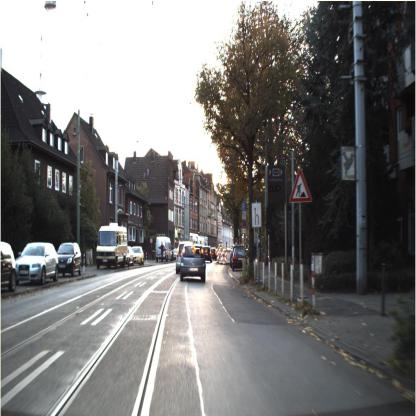danger: (287, 167, 313, 207)
